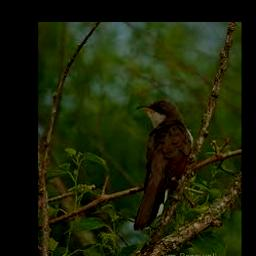Cuckoo: (133, 100, 194, 230)
